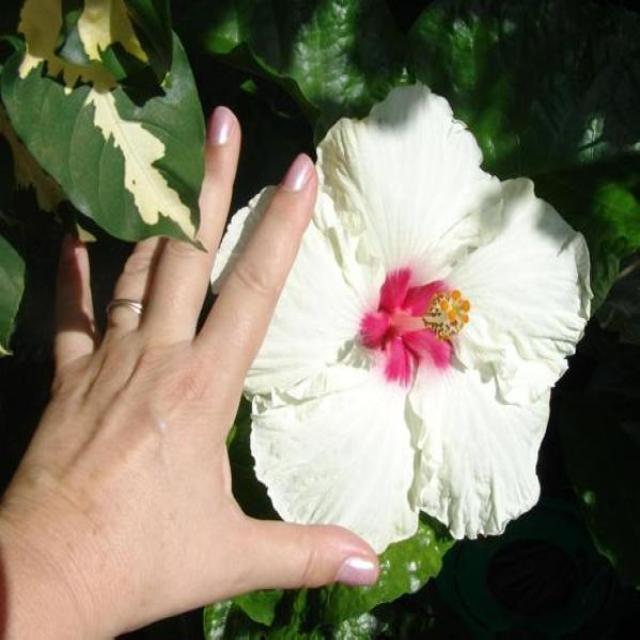hibiscus: (143, 41, 627, 610)
